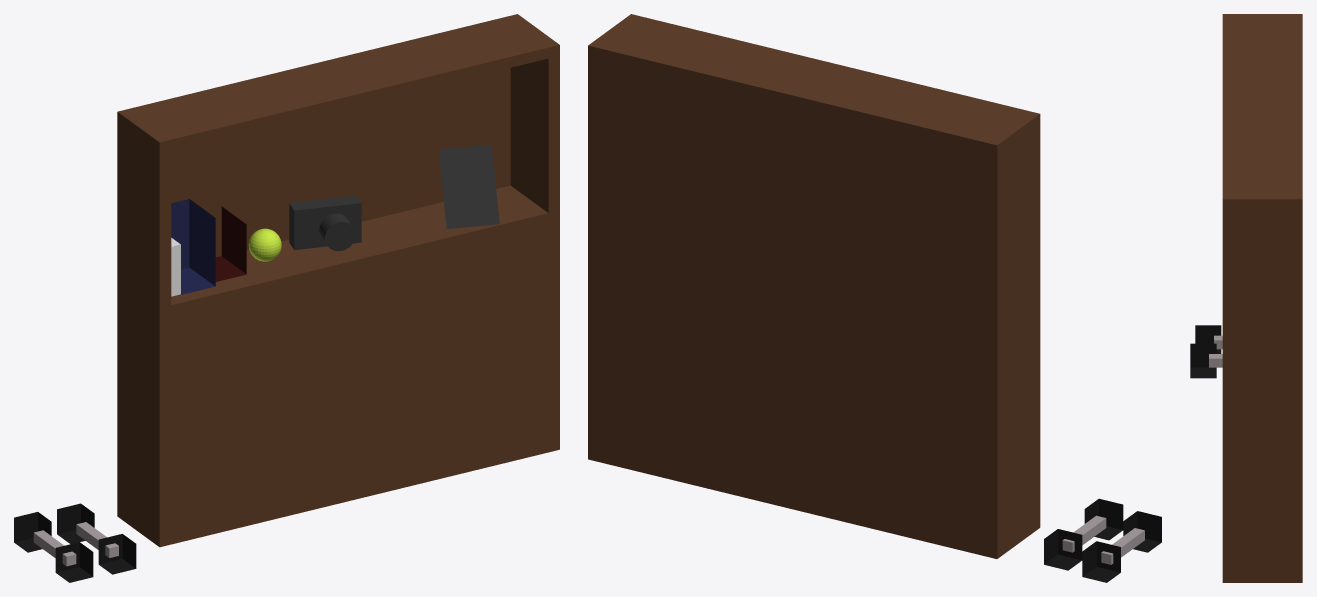
Rendered from shelf.glb.
3 views of the same model, side by side, from view 1: azimuth 30°, elevation 25°; view 2: azimuth 150°, elevation 25°; view 3: azimuth 270°, elevation 25° (orthographic). The views are drawn at different scales.
Parts seen in each view (by area): view 1: Cube.027, Plane.007, Cube.036, Cube.045, Cube.037, Cube.039, Cube.042, Cylinder.001, Cube.043, Cube.040, Sphere; view 2: Cube.027, Cube.040, Cube.043, Cube.042, Cube.039; view 3: Cube.027, Cube.042, Cube.039, Cube.044.
Part boxes in pixels (<box>): Cube.027: <box>117,14,559,547</box>; Plane.007: <box>438,144,499,228</box>; Cube.036: <box>171,199,215,294</box>; Cube.045: <box>289,195,361,250</box>; Cube.037: <box>215,206,246,281</box>; Cube.039: <box>55,542,93,582</box>; Cube.042: <box>98,534,136,574</box>; Cylinder.001: <box>319,213,355,251</box>; Cube.043: <box>57,503,94,544</box>; Cube.040: <box>14,512,51,552</box>; Sphere: <box>248,228,281,261</box>; Cube.027: <box>588,14,1040,558</box>; Cube.040: <box>1082,541,1120,582</box>; Cube.043: <box>1044,529,1082,570</box>; Cube.042: <box>1084,498,1123,540</box>; Cube.039: <box>1123,511,1161,552</box>; Cube.027: <box>1222,14,1302,582</box>; Cube.042: <box>1190,343,1216,378</box>; Cube.039: <box>1195,325,1221,353</box>; Cube.044: <box>1209,354,1222,367</box>.
Size of the model in its own units: 3.74 by 2.87 by 0.7594.
